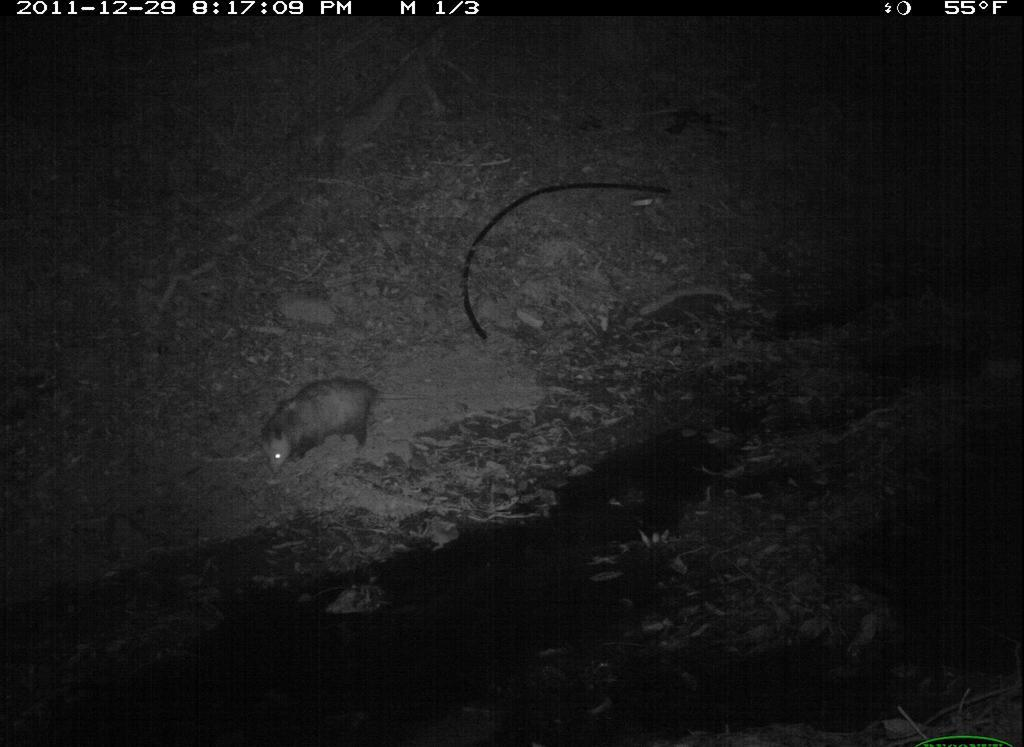opossum: (244, 373, 396, 478)
